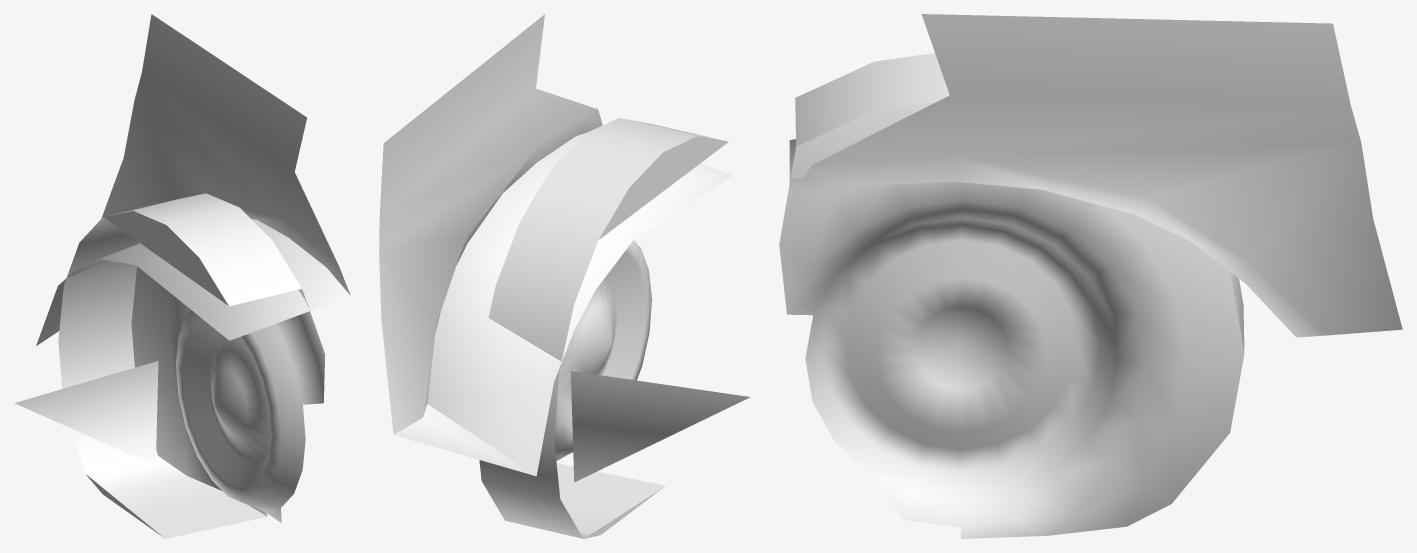
3 views of the same model, side by side, from view 1: azimuth 30°, elevation 25°; view 2: azimuth 150°, elevation 25°; view 3: azimuth 270°, elevation 25° (orthographic). The views are drawn at different scales.
Bounding box in the file's own units: 0.4325 × 0.6872 × 0.7173.
1 material, 1 textured.
